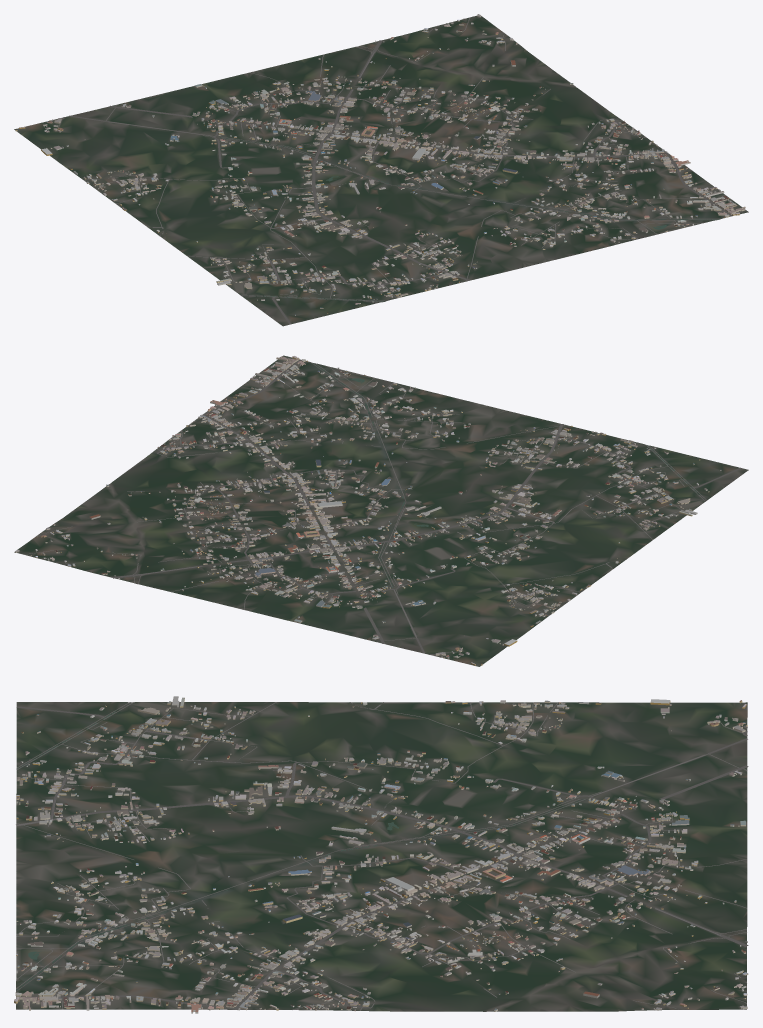
The picture shows the model from 3 angles, top to bottom: view 1: azimuth 30°, elevation 25°; view 2: azimuth 150°, elevation 25°; view 3: azimuth 270°, elevation 25°; orthographic projection. The views are drawn at different scales.
Parts seen in each view (by area): view 1: ground, buildings, roads; view 2: ground, buildings, roads; view 3: ground, buildings, roads, water.
Boxes of the visible parts, box(x1,y1,x2,y2) form: ground: box(14, 15, 748, 326); buildings: box(15, 14, 745, 315); roads: box(52, 17, 731, 324); ground: box(14, 355, 748, 666); buildings: box(15, 356, 721, 665); roads: box(24, 359, 741, 657); ground: box(16, 702, 747, 1011); buildings: box(14, 696, 748, 1013); roads: box(16, 702, 748, 1010); water: box(17, 705, 585, 989).
Size of the model in its own units: 2874 by 23.68 by 2817.
